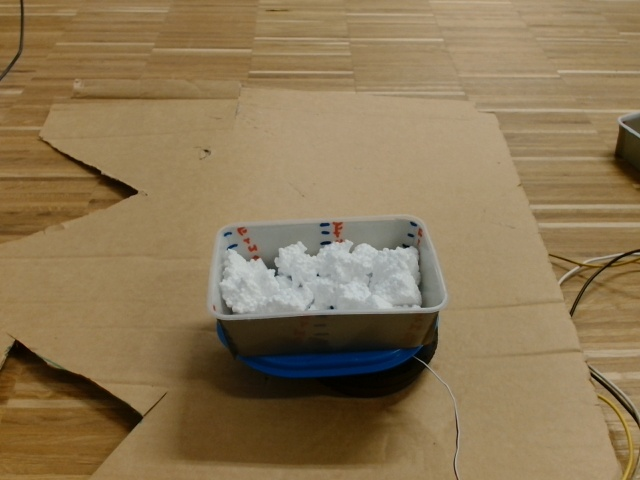Small_half: (212, 218, 446, 323)
